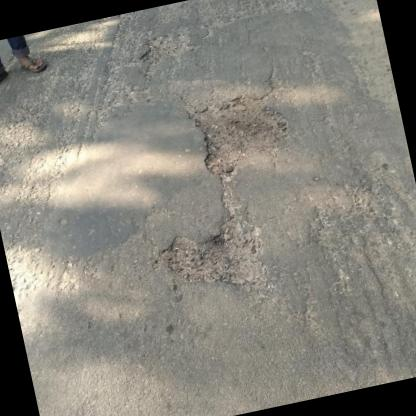pothole: (188, 82, 300, 181), (162, 209, 272, 308)
